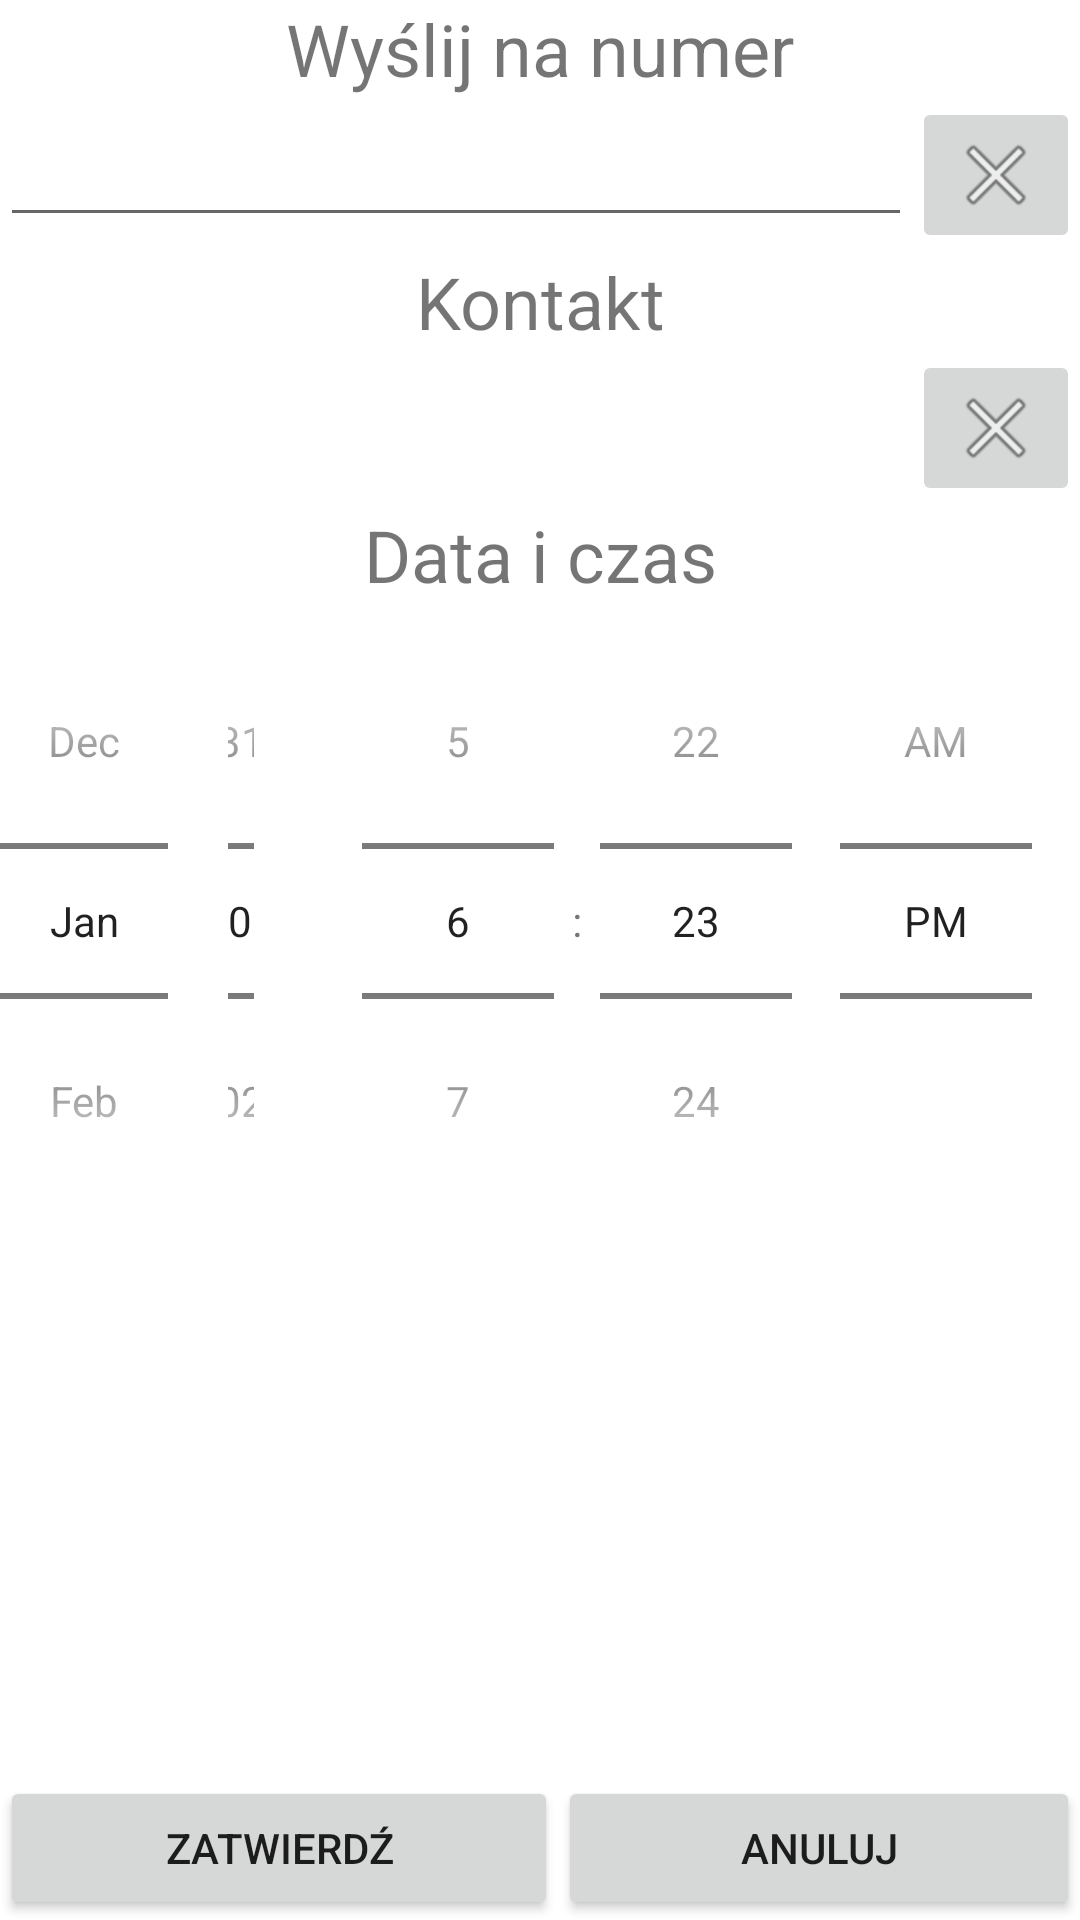

Locate icon controls on the screen. Image size 1080px×1920px, boxes as rect(x1, y1, x2, y2).
close clear cancel: rect(924, 115, 1068, 235), rect(924, 368, 1068, 488)
